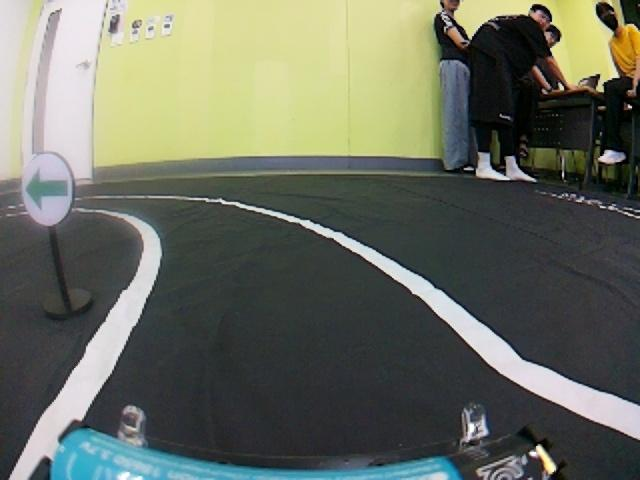sign_left: (20, 151, 76, 228)
straight: (0, 246, 612, 480)
